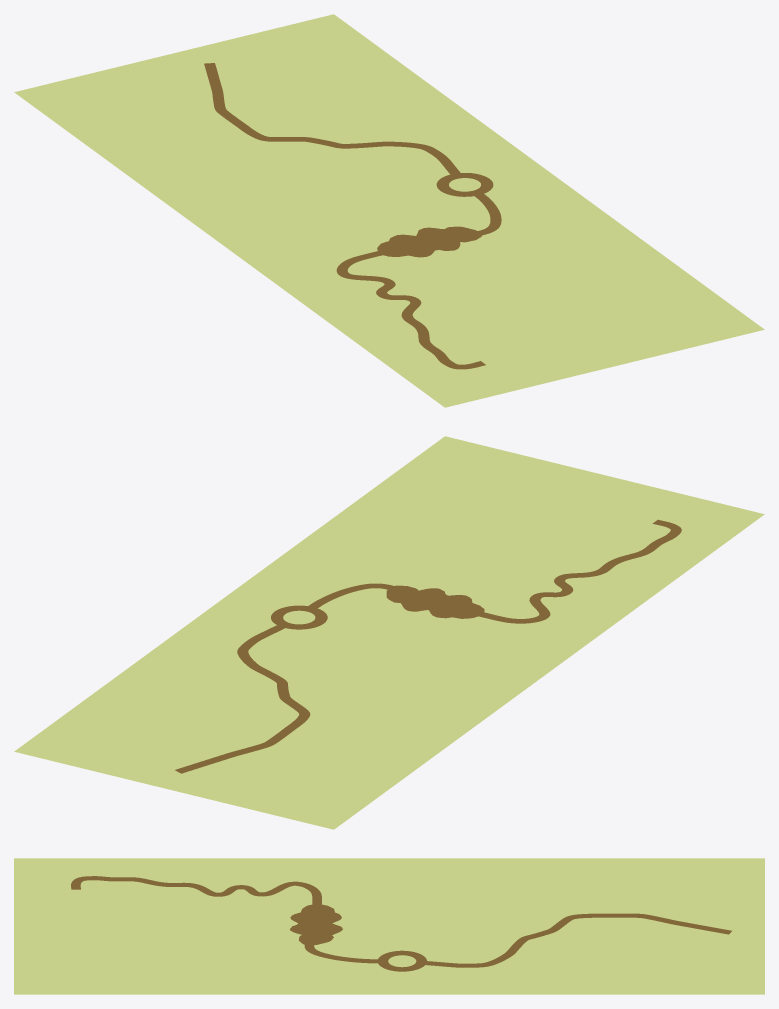
File: race_track_6b.fbx
The picture shows the model from 3 angles, top to bottom: view 1: azimuth 30°, elevation 25°; view 2: azimuth 150°, elevation 25°; view 3: azimuth 270°, elevation 25°; orthographic projection. The views are drawn at different scales.
Parts seen in each view (by area): view 1: RaceTrack_Offroad, RaceTrack_Ground.003, RaceTrack_WideArea, RaceTrack_Ground.001, RaceTrack_Circle; view 2: RaceTrack_Offroad, RaceTrack_Ground.003, RaceTrack_WideArea, RaceTrack_Ground.001, RaceTrack_Circle; view 3: RaceTrack_Offroad, RaceTrack_Ground.003, RaceTrack_WideArea, RaceTrack_Ground.001, RaceTrack_Circle, RaceTrack_Ground.002.
Part boxes in pixels (box(x1,y1,x2,y2)): RaceTrack_Offroad: box(14, 14, 764, 407); RaceTrack_Ground.003: box(204, 63, 460, 174); RaceTrack_WideArea: box(377, 226, 481, 257); RaceTrack_Ground.001: box(336, 251, 485, 369); RaceTrack_Circle: box(436, 173, 493, 196); RaceTrack_Offroad: box(14, 436, 764, 829); RaceTrack_Ground.003: box(175, 625, 310, 773); RaceTrack_WideArea: box(386, 585, 484, 618); RaceTrack_Ground.001: box(479, 519, 681, 623); RaceTrack_Circle: box(271, 605, 327, 629); RaceTrack_Offroad: box(14, 858, 764, 994); RaceTrack_Ground.003: box(425, 913, 731, 967); RaceTrack_WideArea: box(290, 904, 342, 944); RaceTrack_Ground.001: box(71, 876, 321, 904); RaceTrack_Circle: box(378, 950, 426, 971); RaceTrack_Ground.002: box(304, 944, 377, 963).
Bounding box in the file's own units: 6000 × 14000 × 10.
